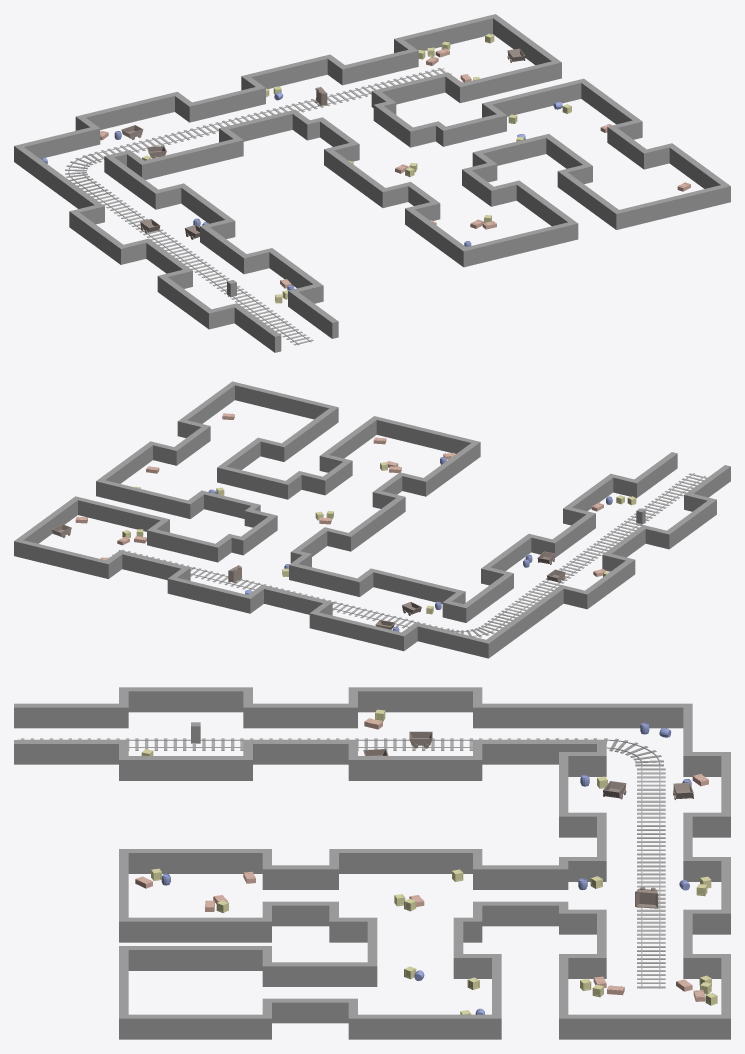
Rendered from CenarioTunel.fbx.
The picture shows the model from 3 angles, top to bottom: view 1: azimuth 30°, elevation 25°; view 2: azimuth 150°, elevation 25°; view 3: azimuth 270°, elevation 25°; orthographic projection. The views are drawn at different scales.
Parts seen in each view (by area): view 1: pCube34, pCube33, Trilho_Reto6, pCube16, pCube35, pCube45, pCube19, pCube22, pCube17, pCube10, pCube11, pCube49 (+34 smaller); view 2: pCube45, pCube33, pCube34, pCube22, pCube19, pCube17, pCube35, pCube16, pCube3, pCube13, pCube12, pCube18 (+35 smaller); view 3: pCube45, pCube58, Trilho_Reto6, pCube57, pCube59, pCube56, pCube49, pCube48, pCube74, pCube60, pCube1, pCube43 (+39 smaller).
Boxes of the visible parts, <box> form: pCube34: <box>619,185,724,228</box>; pCube33: <box>466,222,571,265</box>; Trilho_Reto6: <box>94,68,451,159</box>; pCube16: <box>463,61,555,101</box>; pCube35: <box>145,139,237,179</box>; pCube45: <box>14,144,100,208</box>; pCube19: <box>82,93,174,129</box>; pCube22: <box>489,80,581,116</box>; pCube17: <box>401,15,492,50</box>; pCube10: <box>338,48,418,85</box>; pCube11: <box>186,85,265,122</box>; pCube49: <box>557,169,622,229</box>; pCube45: <box>482,587,563,658</box>; pCube33: <box>376,417,474,453</box>; pCube34: <box>235,383,332,419</box>; pCube22: <box>101,480,187,517</box>; pCube19: <box>315,612,401,649</box>; pCube17: <box>20,540,105,577</box>; pCube35: <box>373,570,458,603</box>; pCube16: <box>78,498,163,531</box>; pCube3: <box>217,465,291,499</box>; pCube13: <box>147,528,221,562</box>; pCube12: <box>289,562,363,596</box>; pCube18: <box>173,577,247,612</box>; pCube45: <box>482,703,692,728</box>; pCube58: <box>559,1014,730,1039</box>; Trilho_Reto6: <box>637,766,665,988</box>; pCube57: <box>348,1014,501,1039</box>; pCube59: <box>119,917,271,942</box>; pCube56: <box>119,1014,271,1039</box>; pCube49: <box>119,946,271,970</box>; pCube48: <box>119,849,271,873</box>; pCube74: <box>348,756,482,780</box>; pCube60: <box>119,756,252,780</box>; pCube1: <box>339,849,472,873</box>; pCube43: <box>119,687,252,712</box>.
Size of the model in its own units: 8200 by 242 by 7500.
